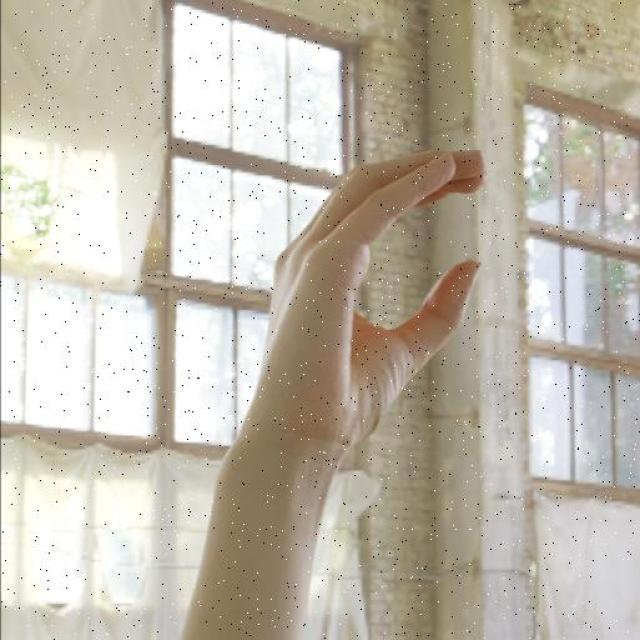C: (245, 144, 485, 448)
